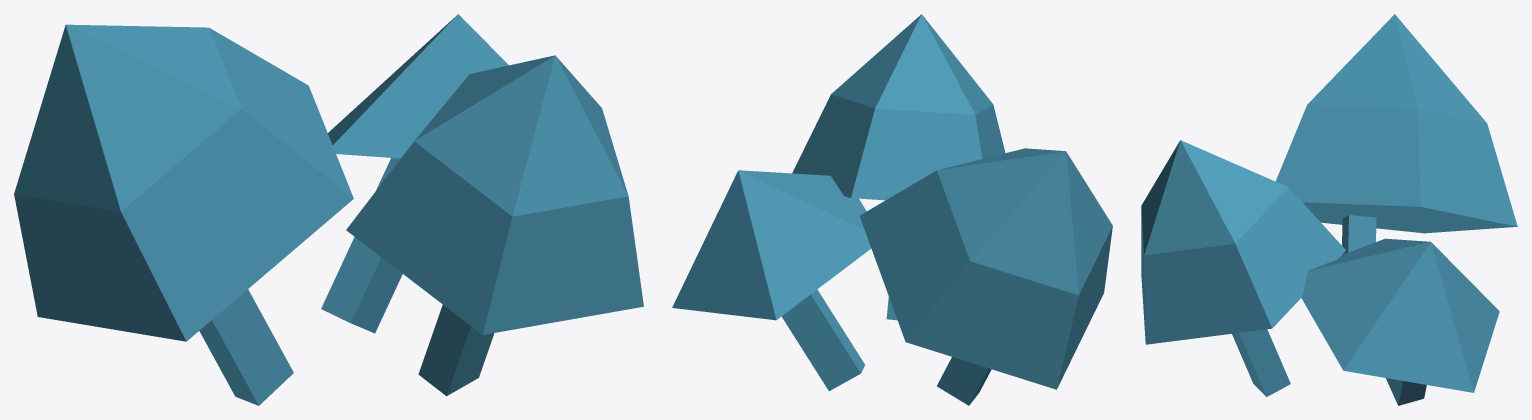
Rendered from fbMushroom1.fbx.
3 views of the same model, side by side, from view 1: azimuth 30°, elevation 25°; view 2: azimuth 150°, elevation 25°; view 3: azimuth 270°, elevation 25° (orthographic). The views are drawn at different scales.
Parts seen in each view (by area): view 1: fbMushroom; view 2: fbMushroom; view 3: fbMushroom.
Boxes of the visible parts, x1,y1,x2,y2 form: fbMushroom: (14, 14, 643, 405); fbMushroom: (672, 14, 1112, 405); fbMushroom: (1141, 14, 1517, 405).
Bounding box in the file's own units: 79.19 × 54.89 × 65.27.
